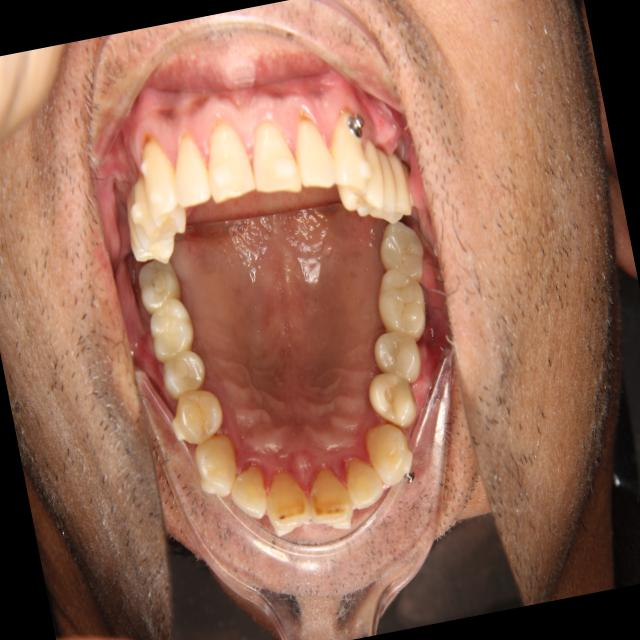tooth: (131, 284, 215, 381), (160, 371, 245, 465), (255, 458, 330, 562), (363, 253, 439, 346), (351, 406, 424, 502), (362, 204, 434, 297), (188, 427, 257, 522), (297, 453, 365, 548), (364, 315, 439, 400), (355, 364, 429, 440), (221, 452, 282, 535), (151, 345, 222, 415), (128, 254, 196, 327), (336, 438, 395, 521)
